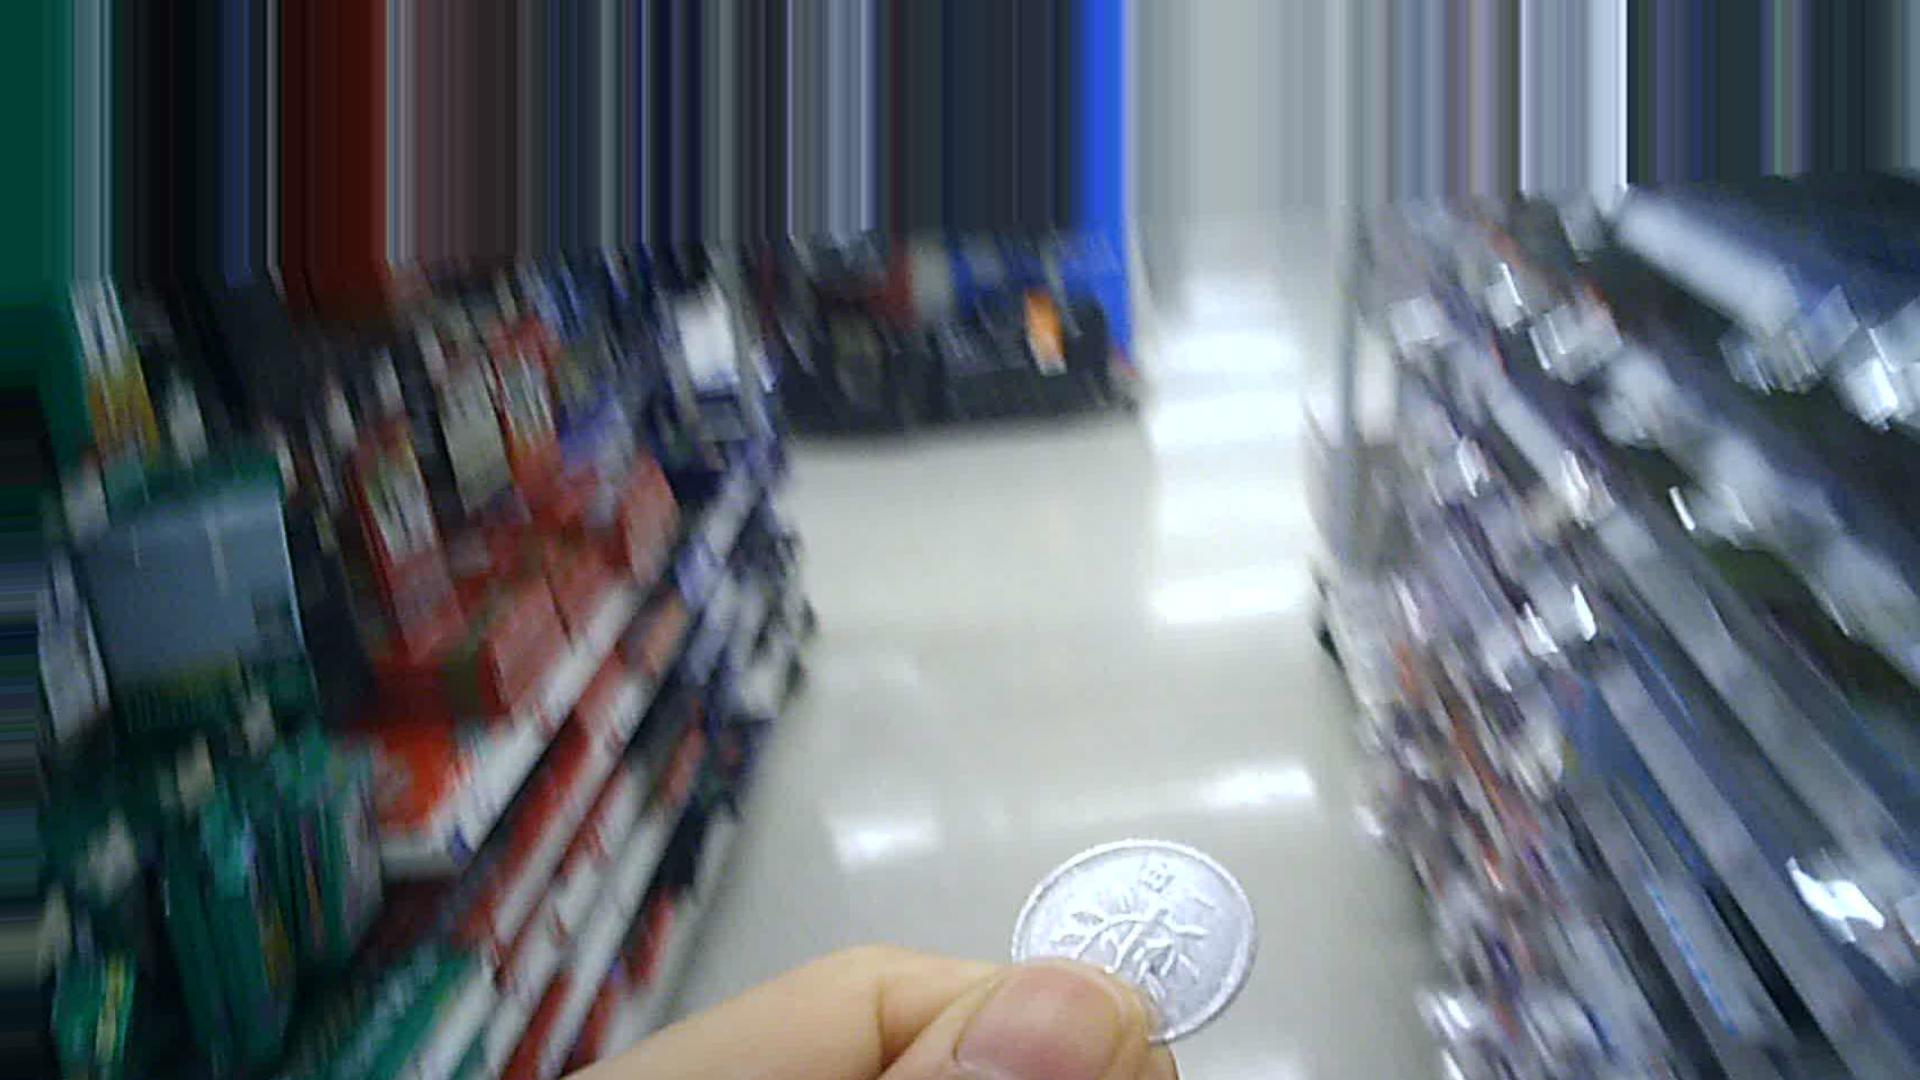1 Yen: (996, 823, 1254, 1030)
